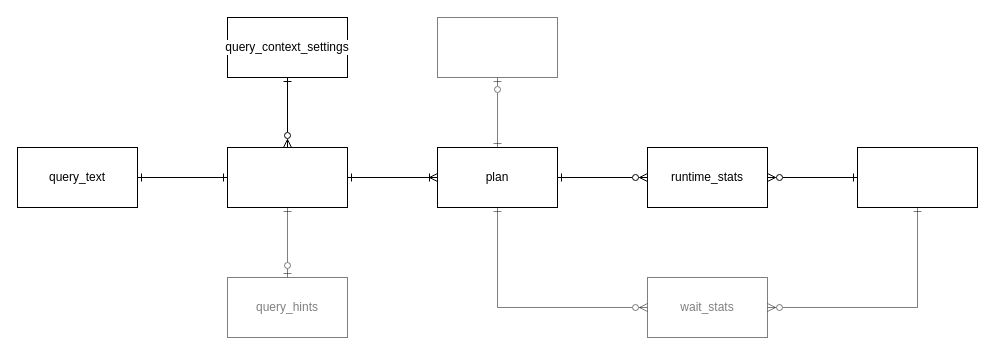
This 995x355 diagram has some shape labels left out. Here are the shapes that lost their labels. From the top down, the centre of each, then its label:
At pixel 497 47: "plan_feedback".
At pixel 287 177: "query".
At pixel 917 177: "runtime_stats_interval".
